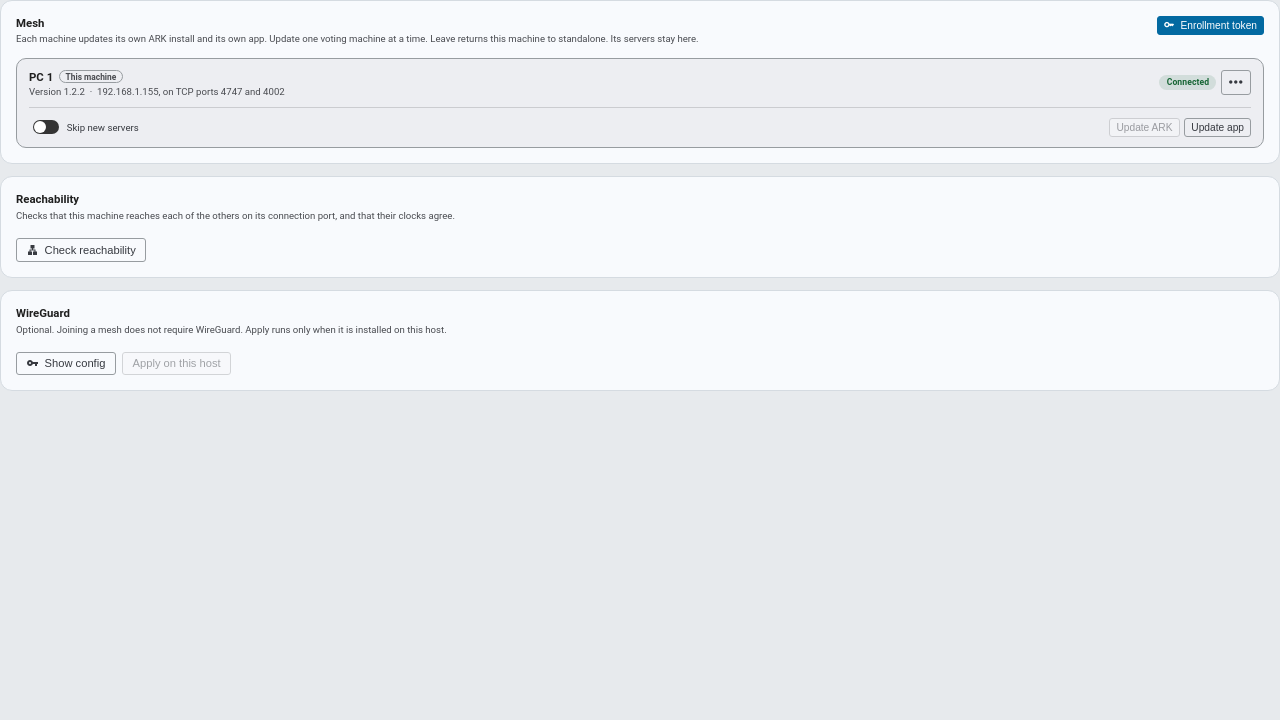
Test: MeshSettingsComponent › the address other machines use › starts from the address it has now
Click the button with class "mesh-node-more" at [1236, 82], box left=1221, top=70, right=1251, bottom=95
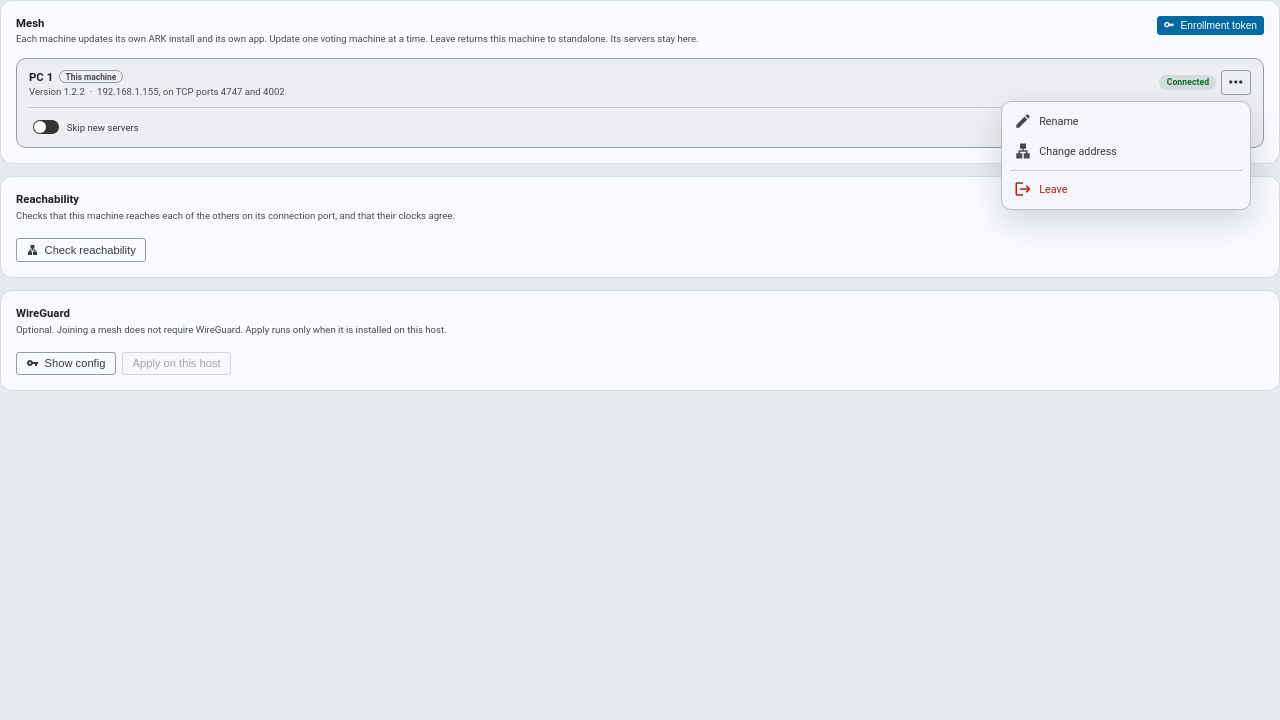
Click the menu item "Change address" at [1126, 151], box left=1006, top=136, right=1246, bottom=166
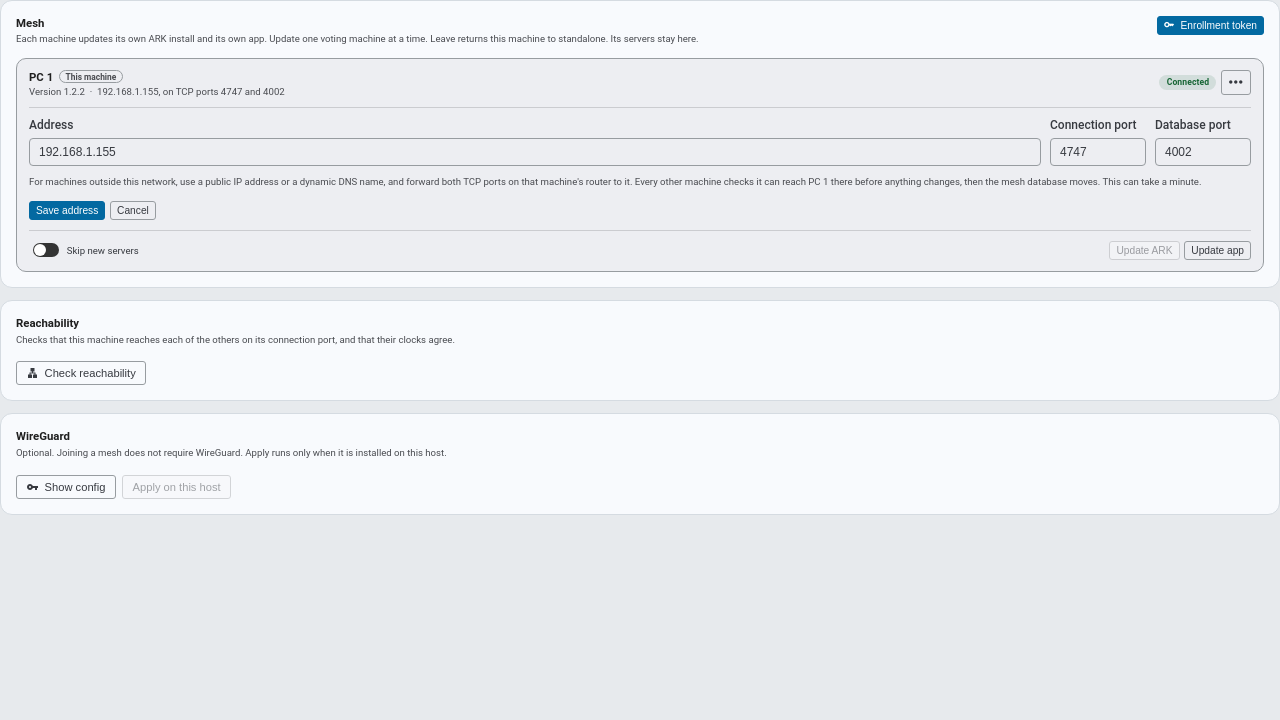
expect the field with class "mesh-address-host" holds "192.168.1.155": met, box left=29, top=138, right=1041, bottom=166
expect the number field with class "mesh-address-raft" holds "4002": met, box left=1155, top=138, right=1251, bottom=166
